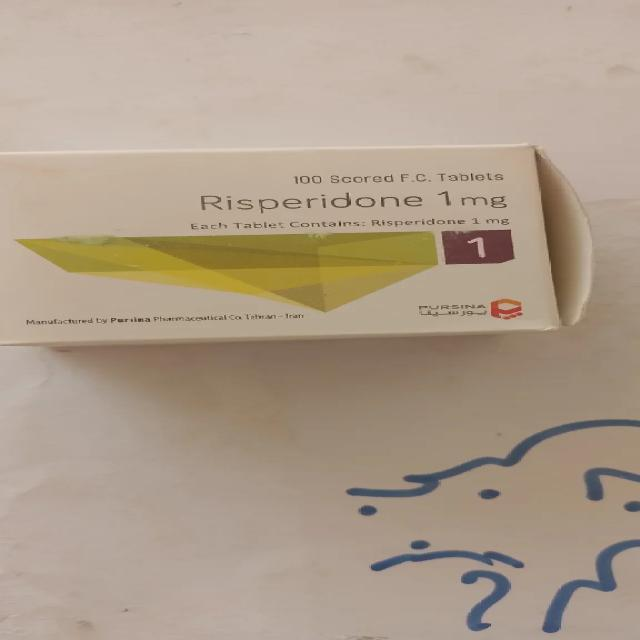drug-name: (198, 192, 428, 214)
